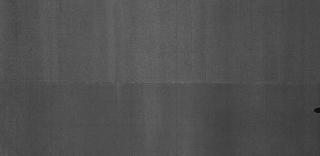punching hole: (312, 107, 320, 115)
welding line: (2, 78, 318, 86)
